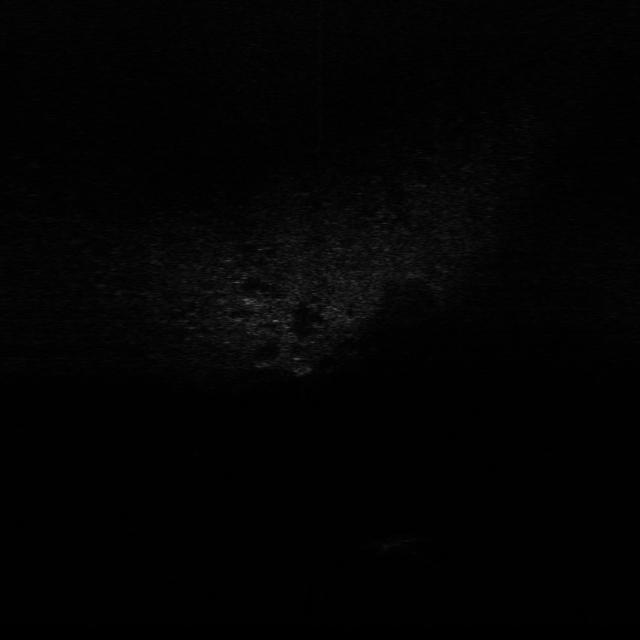circle cage: (349, 533, 442, 563)
cube: (294, 360, 320, 386)
